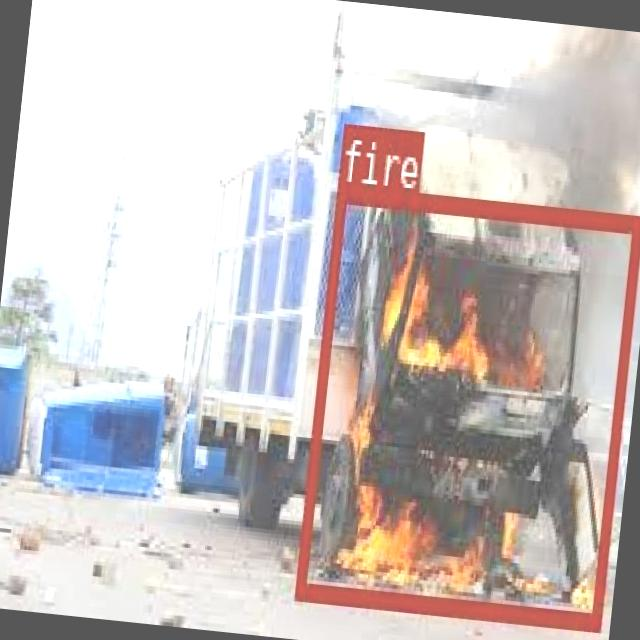fire: (292, 181, 640, 628)
